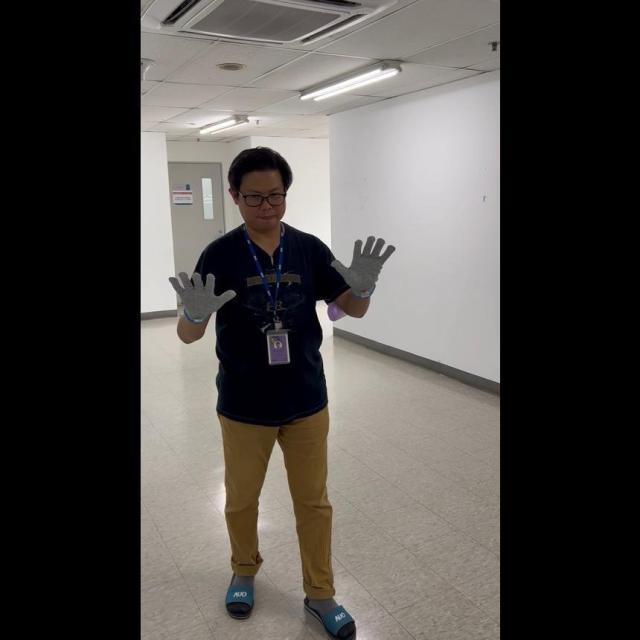gloved_hand: (327, 233, 395, 296), (169, 267, 234, 323)
